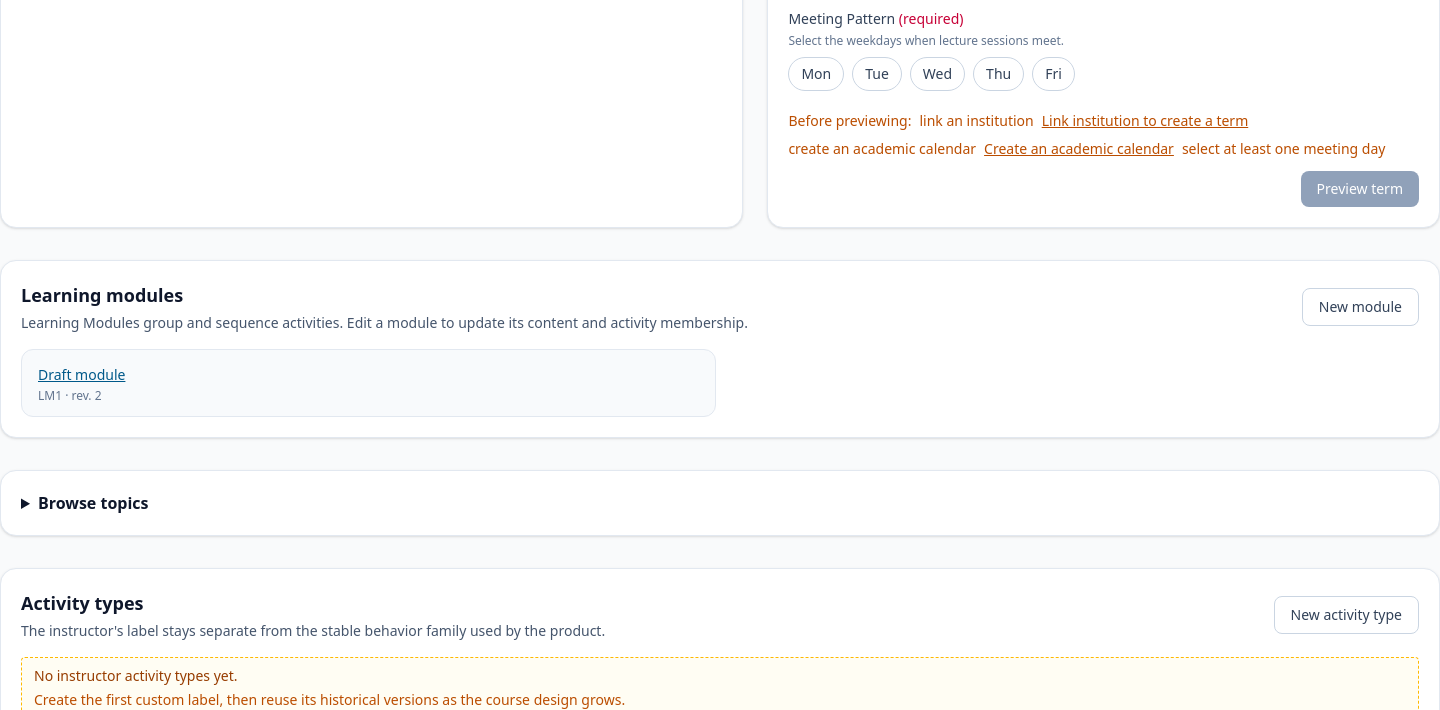
Scenario: workspace version editors › publishes the current draft without creating another version
(page scrolled)
Click the button "Draft module" at (82, 375), box [38, 365, 125, 385]
(page scrolled)
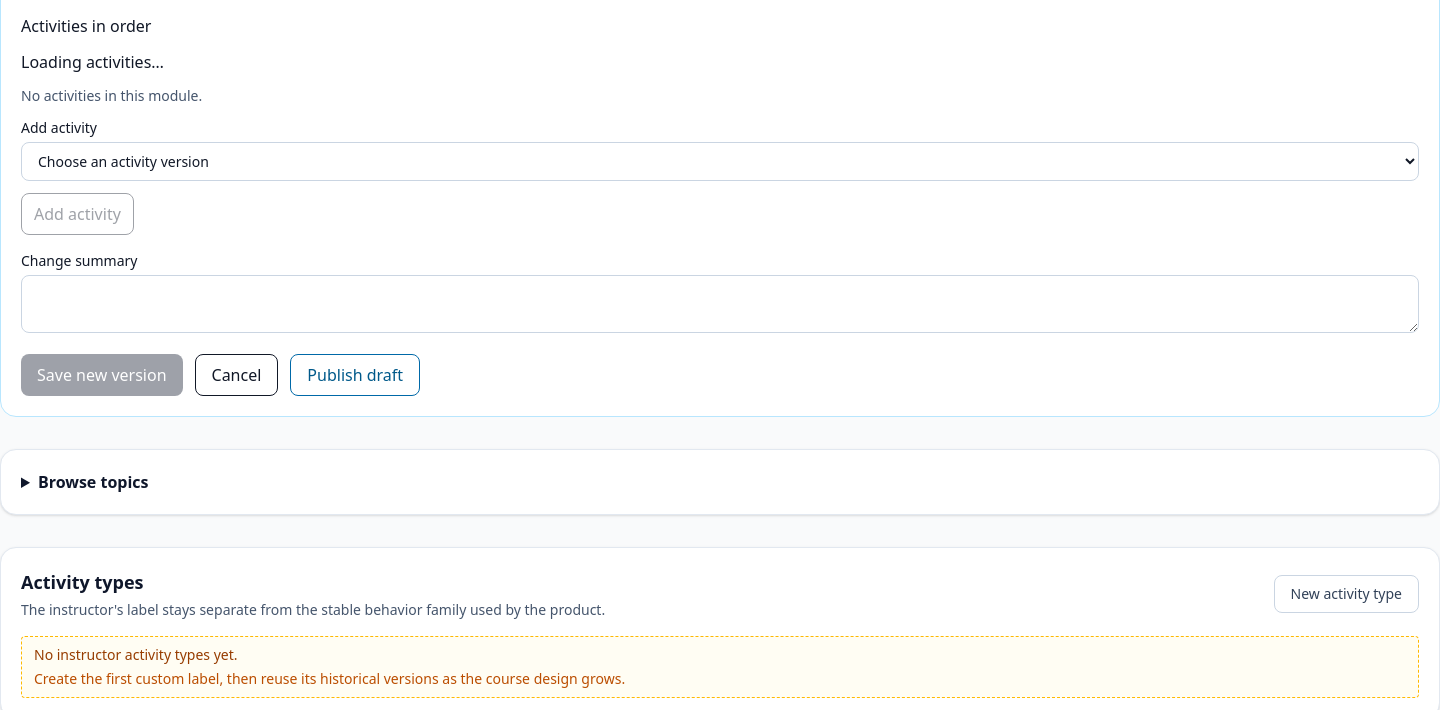
Click the button "Publish draft" at (355, 375), box [290, 354, 420, 396]
(page scrolled)
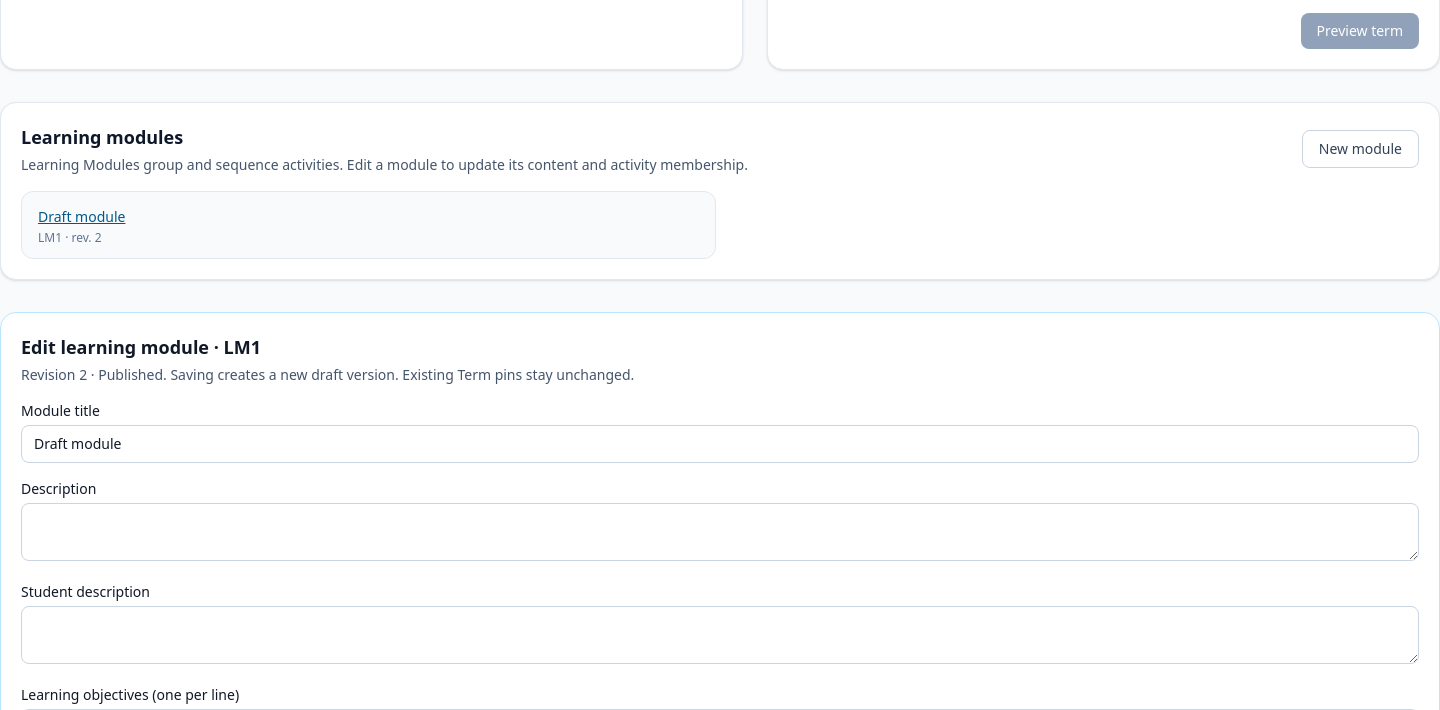
Check: the text "Revision 2 · Published" is shown, box [21, 365, 634, 384]
